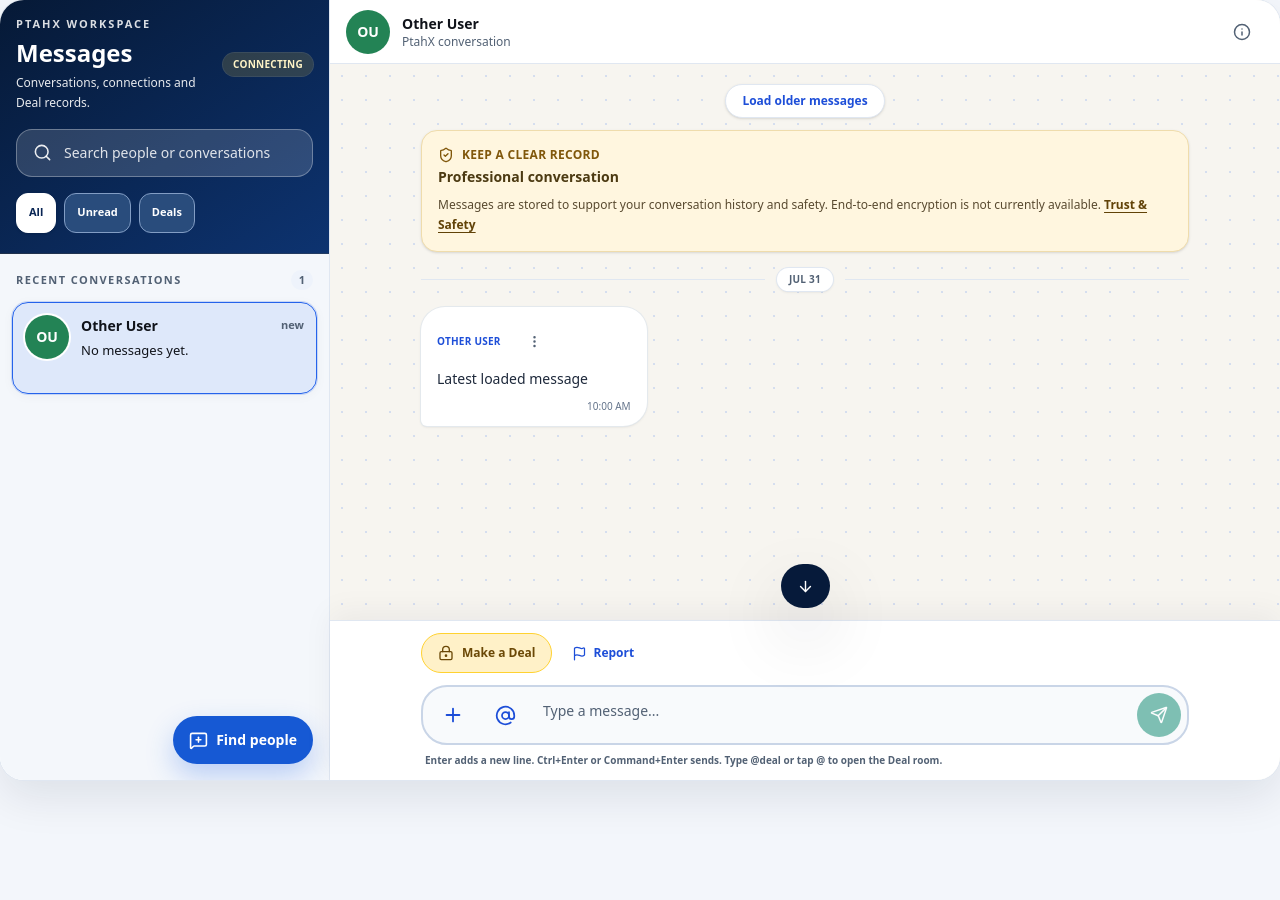
message workspace exact targets › loads older history through the bounded cursor path
Step 1. Click the button "Load older messages" → x=805, y=101, box [725,84,885,118]
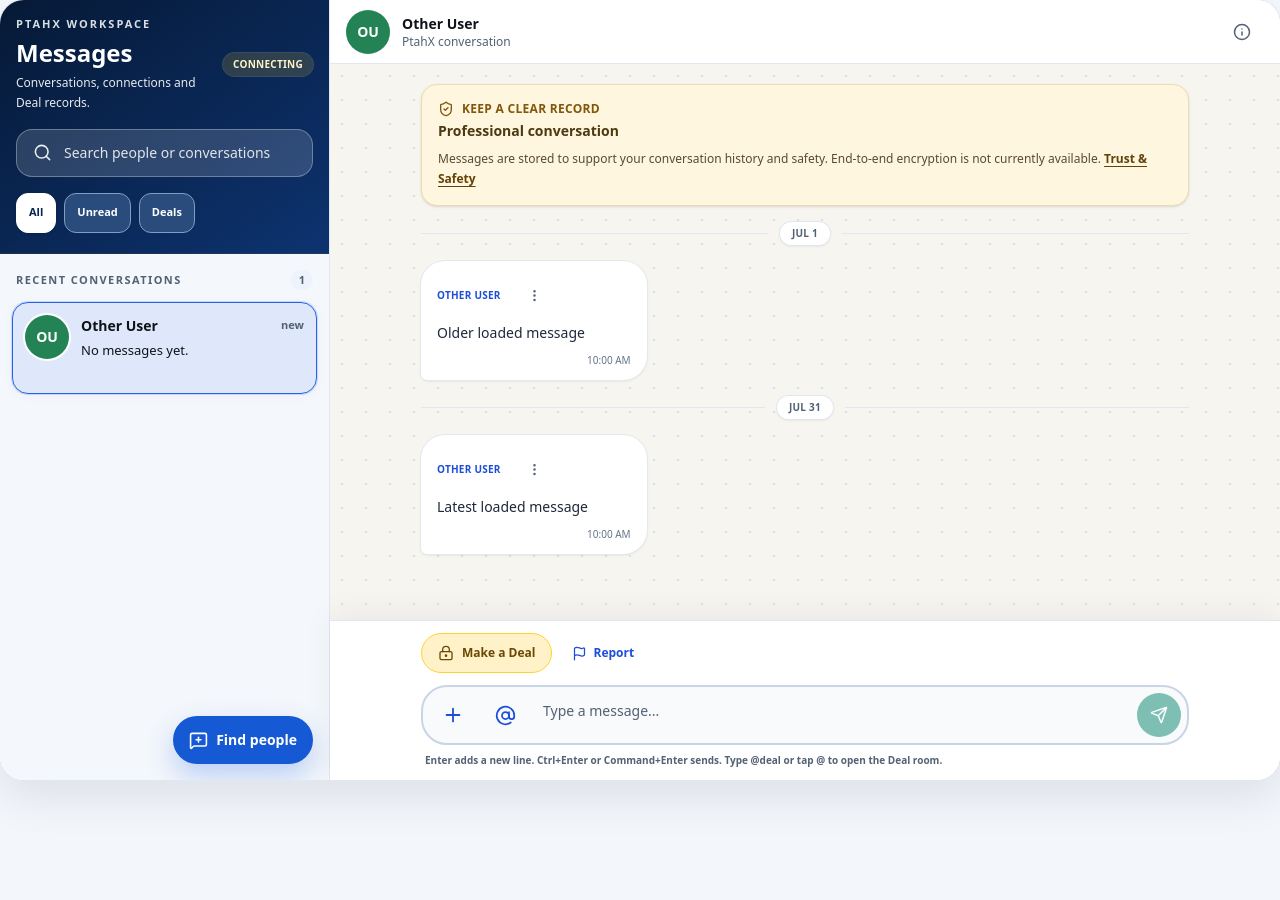
Expected: the text "Latest loaded message" is shown, [437,497,588,516]
Now the text "Older loaded message" is shown, box [437,323,585,342]
